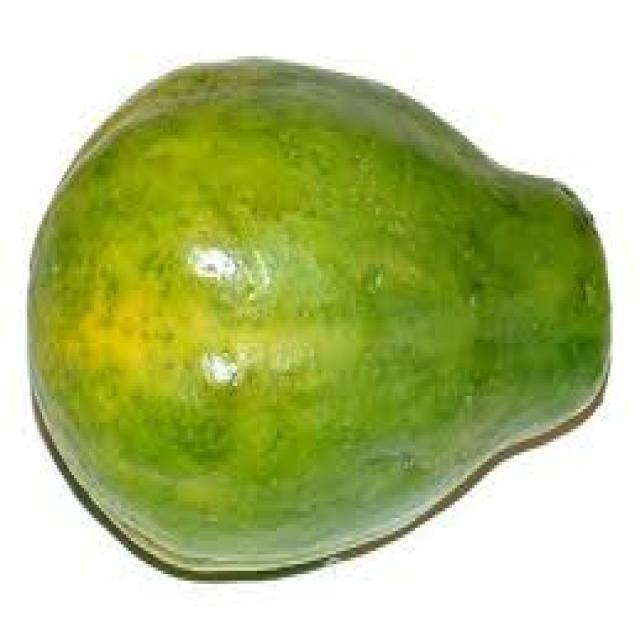papaya: (20, 46, 632, 574)
